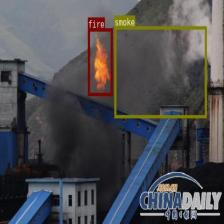fire: (88, 29, 112, 96)
smoke: (114, 26, 206, 118)
